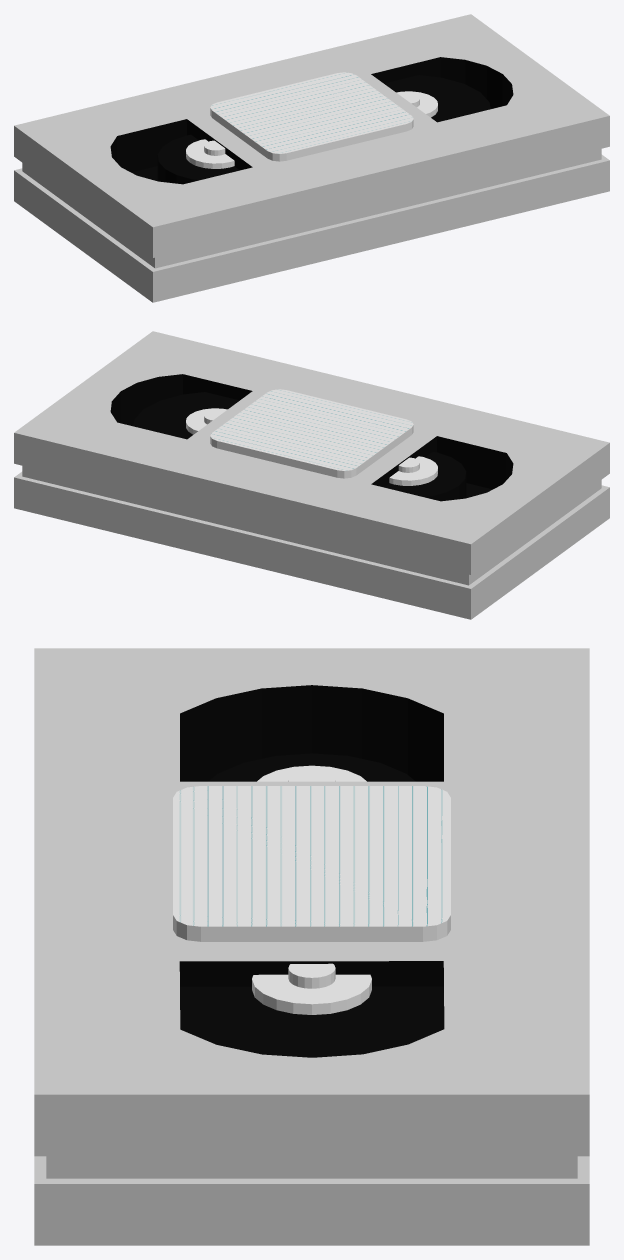
Rendered from White.fbx.
The picture shows the model from 3 angles, top to bottom: view 1: azimuth 30°, elevation 25°; view 2: azimuth 150°, elevation 25°; view 3: azimuth 270°, elevation 25°; orthographic projection. The views are drawn at different scales.
Visible parts, largest first — view 1: Casete_Blanco, Casete_Blanco_Nombre; view 2: Casete_Blanco, Casete_Blanco_Nombre; view 3: Casete_Blanco, Casete_Blanco_Nombre.
Boxes of the visible parts, x1,y1,x2,y2 form: Casete_Blanco: (14,14,609,302); Casete_Blanco_Nombre: (210,72,413,161); Casete_Blanco: (14,331,609,619); Casete_Blanco_Nombre: (210,389,413,478); Casete_Blanco: (34,648,589,1245); Casete_Blanco_Nombre: (173,786,450,941).
Bounding box in the file's own units: 19 × 3.3 × 10.
5 materials, 1 textured.
